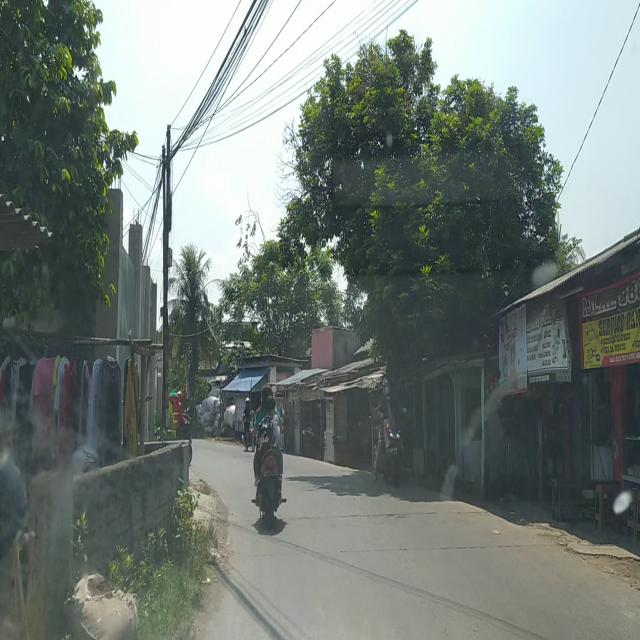Sewer Cover: (331, 538, 546, 556), (293, 509, 489, 522)
